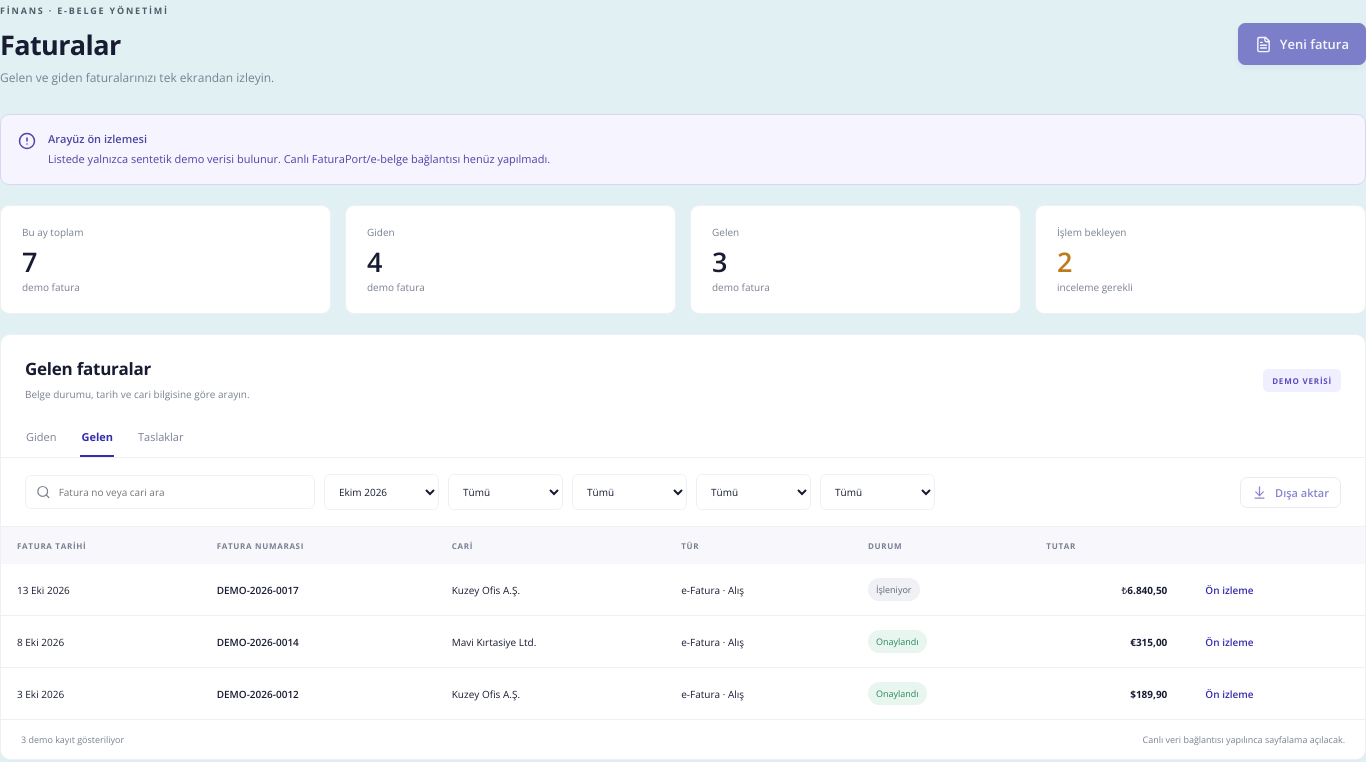
it: shows incoming invoices and filters to draft invoices
The image size is (1366, 762).
Expected: the text "DEMO-2026-0017" is shown, top-left (217, 583), bottom-right (299, 597)
Click the link "Taslaklar": x=161, y=437 top-left (138, 429), bottom-right (184, 444)
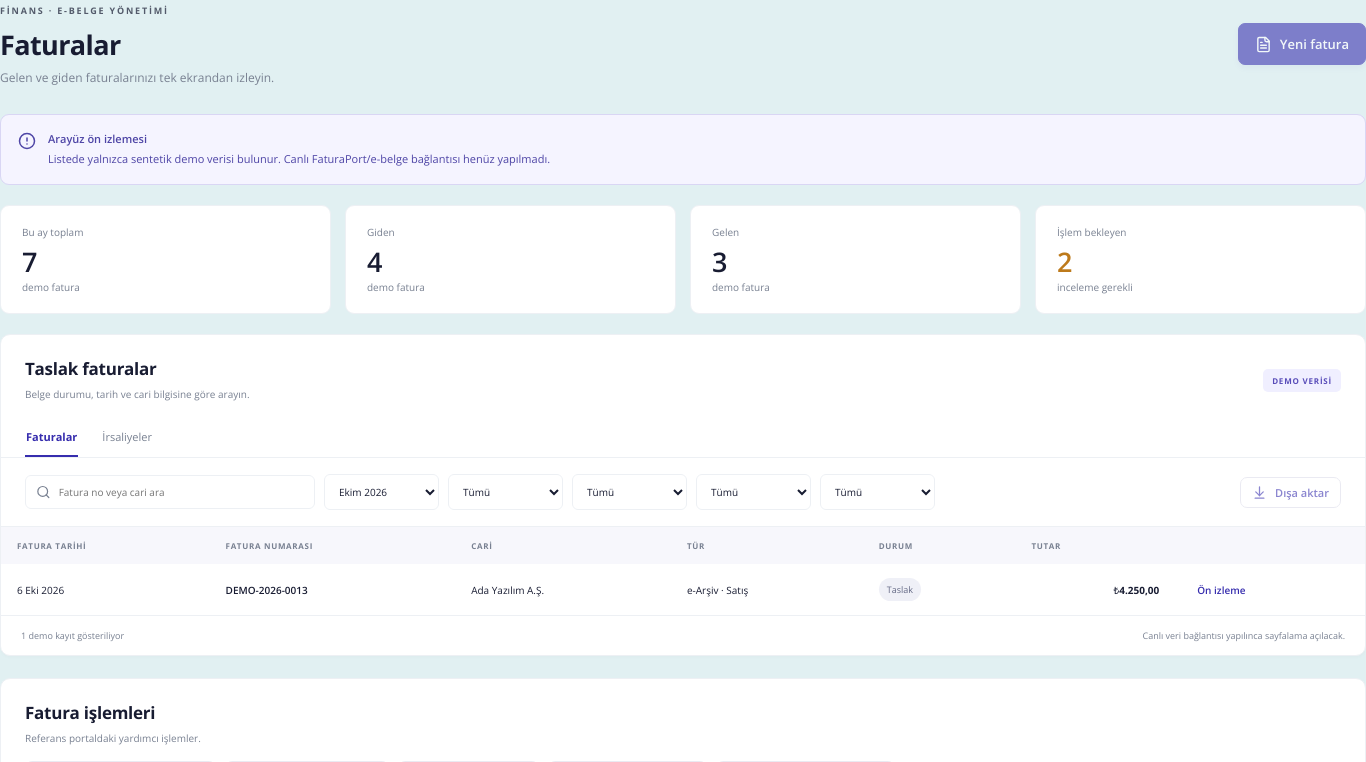
Expected: the text "DEMO-2026-0013" is shown, top-left (226, 583), bottom-right (308, 597)
Expected: the text "DEMO-2026-0017" is gone
